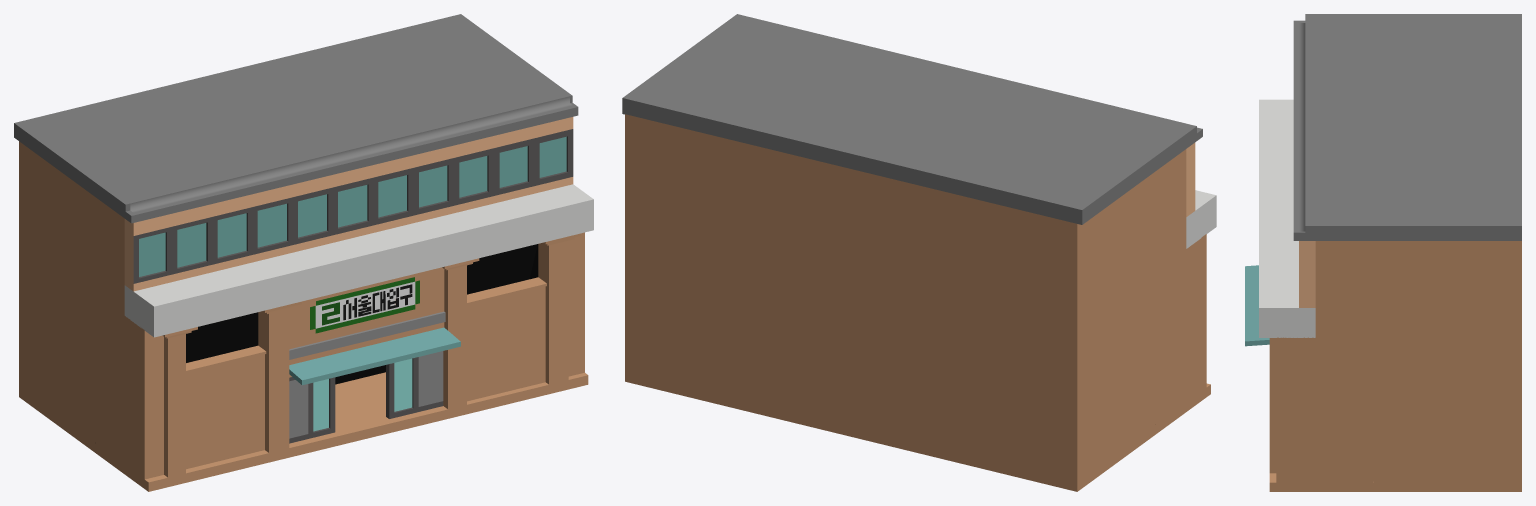
Rendered from 열린 서울대입구 역.fbx.
3 views of the same model, side by side, from view 1: azimuth 30°, elevation 25°; view 2: azimuth 150°, elevation 25°; view 3: azimuth 270°, elevation 25° (orthographic). The views are drawn at different scales.
Parts seen in each view (by area): view 1: Box001; view 2: Box001; view 3: Box001.
Boxes of the visible parts, bbox=[...] form: Box001: bbox=[14, 14, 593, 491]; Box001: bbox=[622, 14, 1216, 491]; Box001: bbox=[1245, 14, 1521, 491].
Bounding box in the file's own units: 50.81 × 29.89 × 28.05.
Materials: 1 (1 with a texture image).
